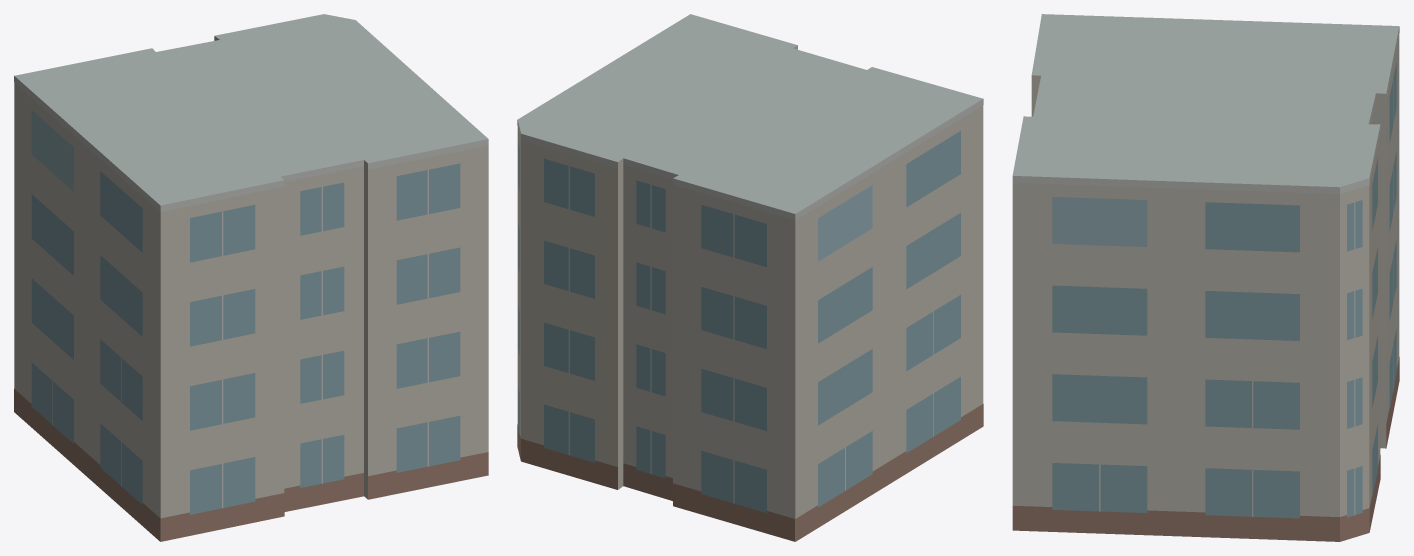
File: survey-upis-32664715.glb
3 views of the same model, side by side, from view 1: azimuth 30°, elevation 25°; view 2: azimuth 150°, elevation 25°; view 3: azimuth 270°, elevation 25° (orthographic). The views are drawn at different scales.
Visible parts, largest first — view 1: survey-upis-32664715.tmp; view 2: survey-upis-32664715.tmp; view 3: survey-upis-32664715.tmp.
Boxes of the visible parts, bbox=[...] form: survey-upis-32664715.tmp: bbox=[14, 14, 488, 541]; survey-upis-32664715.tmp: bbox=[517, 14, 983, 541]; survey-upis-32664715.tmp: bbox=[1012, 14, 1399, 541].
Bounding box in the file's own units: 13.15 × 12.55 × 12.42.
